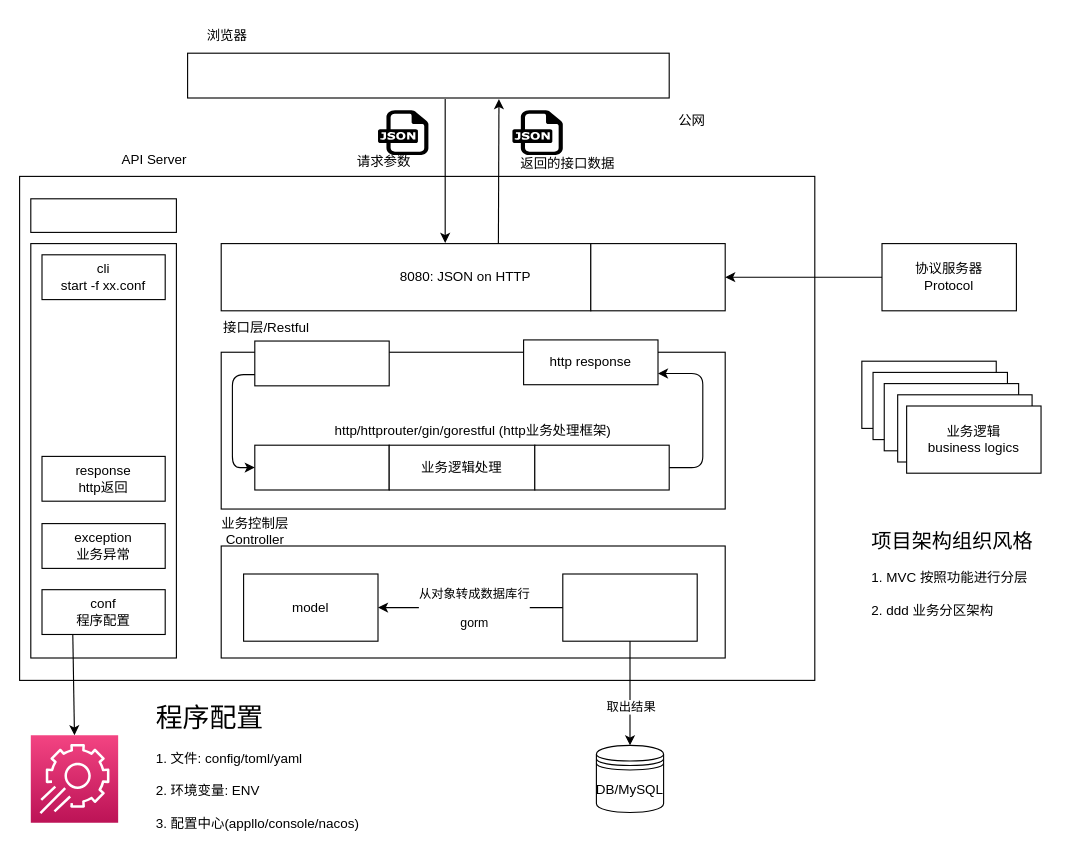
Image size: 1080x858. Some labels were removed from this diagram. The shapes that lost their labels are listed below. From the top down, each one's box as (x1, y1, x2, y2) in pixels, then its label:
(30, 198, 176, 232): 程序入口
(590, 242, 725, 311): HTTP Server
(254, 340, 389, 386): http request
(254, 444, 389, 490): 解析用户请求
(534, 444, 669, 490): 返回处理结果
(562, 573, 697, 641): controller
